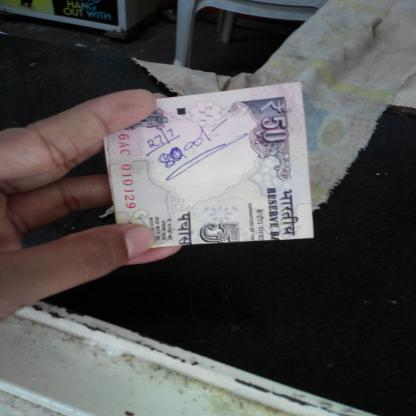Old50Front: (104, 81, 314, 248)
